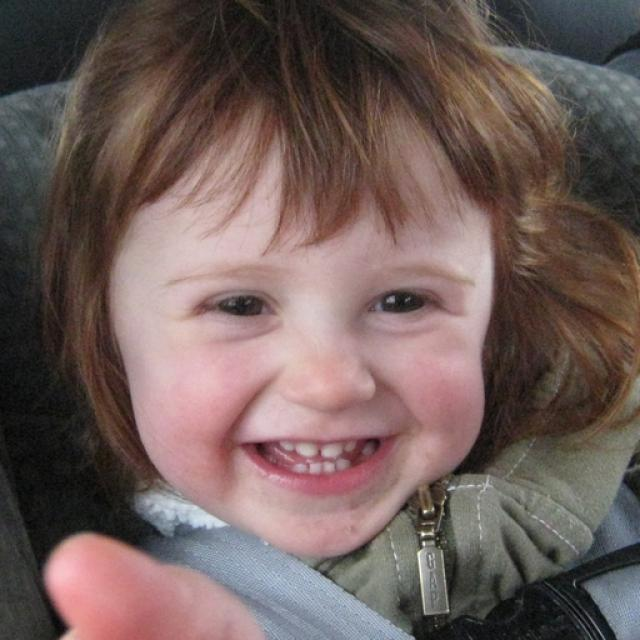happy: (111, 105, 491, 559)
